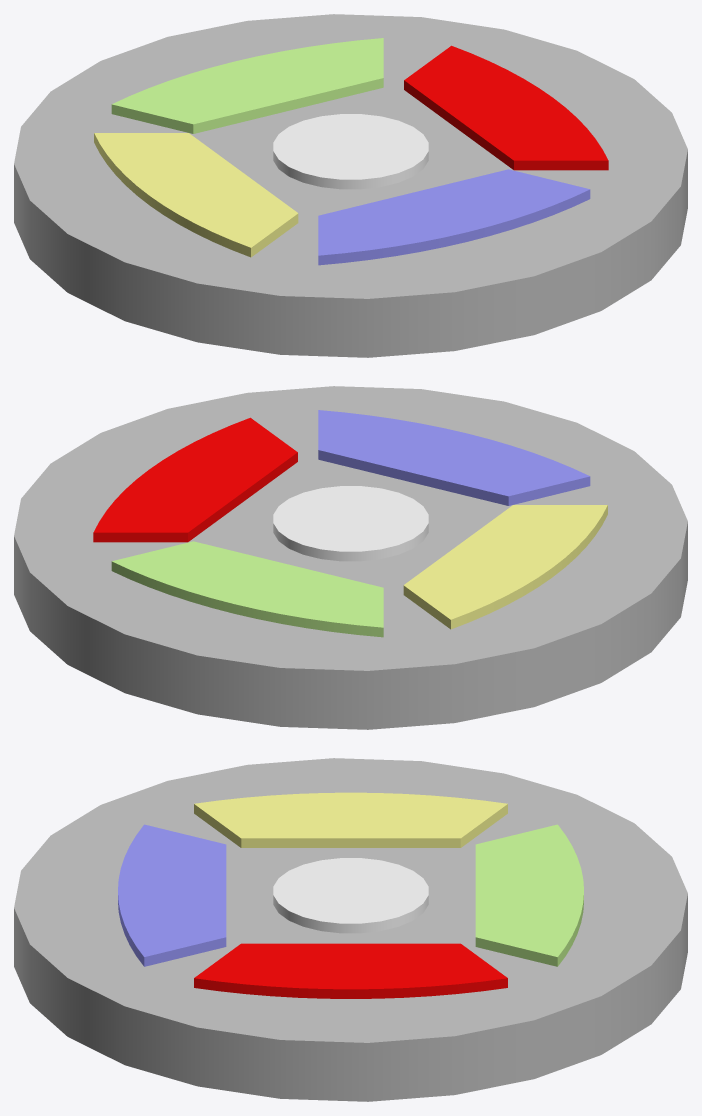
Rendered from full_red.obj.
The picture shows the model from 3 angles, top to bottom: view 1: azimuth 30°, elevation 25°; view 2: azimuth 150°, elevation 25°; view 3: azimuth 270°, elevation 25°; orthographic projection.
Parts seen in each view (by area): view 1: Mesh5 Model, Mesh1 Group1 Model, Mesh3 Group3 Model, Mesh2 Group2 Model, Mesh4 Group4 Model; view 2: Mesh5 Model, Mesh3 Group3 Model, Mesh1 Group1 Model, Mesh2 Group2 Model, Mesh4 Group4 Model; view 3: Mesh5 Model, Mesh2 Group2 Model, Mesh4 Group4 Model, Mesh1 Group1 Model, Mesh3 Group3 Model.
Part boxes in pixels (box(x1,y1,x2,y2)): Mesh5 Model: box(14, 14, 687, 357); Mesh1 Group1 Model: box(318, 169, 590, 265); Mesh3 Group3 Model: box(111, 38, 383, 133); Mesh2 Group2 Model: box(404, 45, 608, 170); Mesh4 Group4 Model: box(94, 133, 298, 257); Mesh5 Model: box(14, 386, 687, 729); Mesh3 Group3 Model: box(111, 541, 383, 637); Mesh1 Group1 Model: box(318, 410, 590, 505); Mesh2 Group2 Model: box(93, 417, 297, 542); Mesh4 Group4 Model: box(403, 505, 607, 629); Mesh5 Model: box(14, 758, 687, 1101); Mesh2 Group2 Model: box(194, 943, 507, 998); Mesh4 Group4 Model: box(194, 792, 507, 847); Mesh1 Group1 Model: box(118, 824, 226, 966); Mesh3 Group3 Model: box(475, 824, 583, 966).
Size of the model in its own units: 183 by 20.5 by 183.
